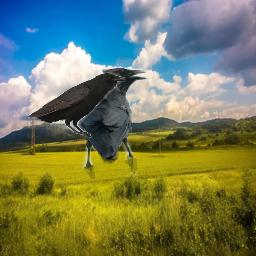Crow: (76, 64, 148, 179), (27, 72, 126, 138)
